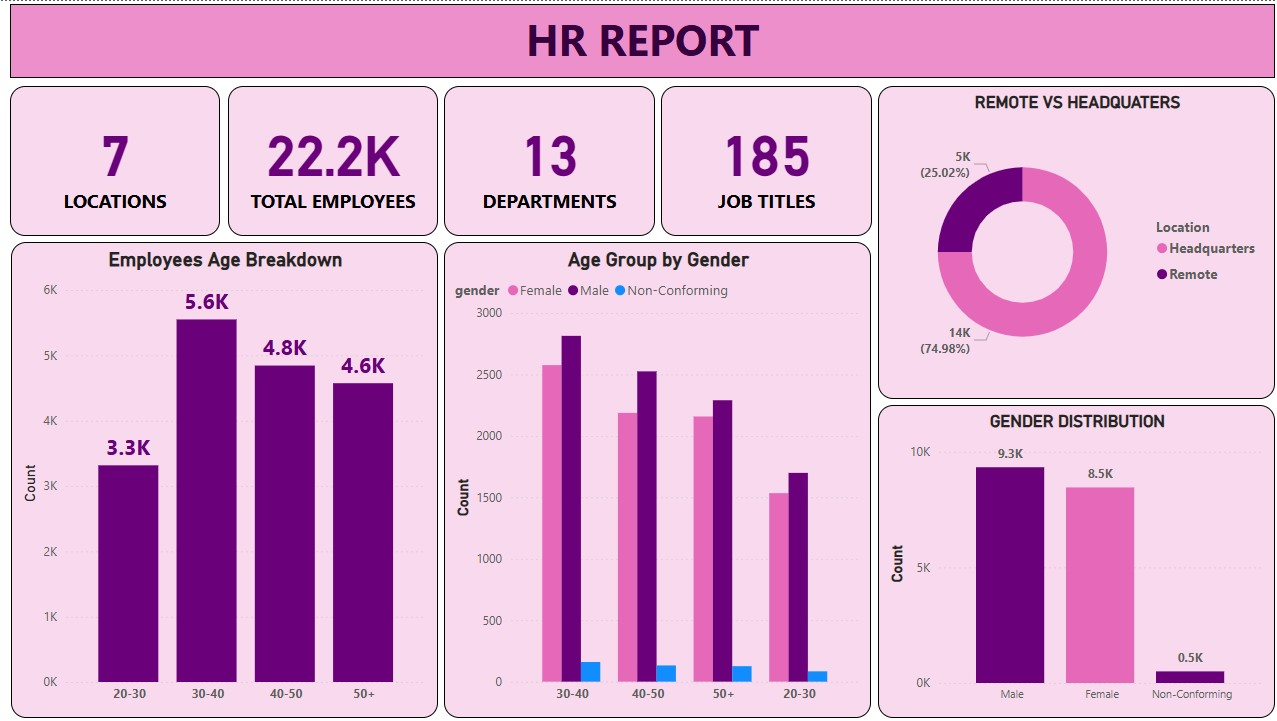

Layout of this report page (visuals, bound fields, positions):
{"tool":"powerbi","page":{"name":"Page 1","canvas":[1280,720],"ordinal":0},"visuals":[{"type":"textbox","box":[10.1,3.4,1265,73.5],"z":0},{"type":"card","fields":{"Values":["Sum(Location Count.No_of_Locations)"]},"box":[10.1,85.2,210,149.6],"z":1000},{"type":"card","fields":{"Values":["Sum(Employees Count.Employees_Count)"]},"box":[227.7,85,210.4,149.6],"z":2000},{"type":"card","fields":{"Values":["Sum(Departments Count.Departments_Count)"]},"box":[444.5,85,210.4,149.6],"z":3000},{"type":"card","fields":{"Values":["Sum(Job Titles Count.Jobtitles_Count)"]},"box":[661.2,85,210.4,149.6],"z":4000},{"type":"donutChart","title":"REMOTE VS HEADQUATERS","fields":{"Y":["Sum(5  Remote vs Headquaters.Count)"],"Category":["5  Remote vs Headquaters.location"]},"box":[878.1,85.4,397,313],"z":5000},{"type":"columnChart","title":"GENDER DISTRIBUTION","fields":{"Category":["2  Gender Distribution.gender"],"Y":["Sum(2  Gender Distribution.Count)"]},"box":[877.9,404.2,397.2,312.8],"z":6000},{"type":"clusteredColumnChart","title":"Employees Age Breakdown","fields":{"Y":["Sum(1 2  Age Group Distribution.count)"],"Category":["1 2  Age Group Distribution.Age_Bracket"]},"box":[11,241,427.1,476.1],"z":7000},{"type":"clusteredColumnChart","title":"Age Group by Gender","fields":{"Category":["1 1  Age Distribution by Gender.Age_Bracket"],"Y":["Sum(1 1  Age Distribution by Gender.count)"],"Series":["1 1  Age Distribution by Gender.gender"]},"box":[444.1,241.4,427,476],"z":8000}]}

Visuals, with their boxes in screenshot pixels (x1, y1, x2, y2), scaled from the page's 1280x720 canvas onto the 1277x721 screenshot:
textbox: box=[10, 3, 1272, 77]
card - Sum(Location Count.No_of_Locations): box=[10, 85, 220, 235]
card - Sum(Employees Count.Employees_Count): box=[227, 85, 437, 235]
card - Sum(Departments Count.Departments_Count): box=[443, 85, 653, 235]
card - Sum(Job Titles Count.Jobtitles_Count): box=[660, 85, 870, 235]
"REMOTE VS HEADQUATERS" donutChart: box=[876, 86, 1272, 399]
"GENDER DISTRIBUTION" columnChart: box=[876, 405, 1272, 718]
"Employees Age Breakdown" clusteredColumnChart: box=[11, 241, 437, 718]
"Age Group by Gender" clusteredColumnChart: box=[443, 242, 869, 718]
